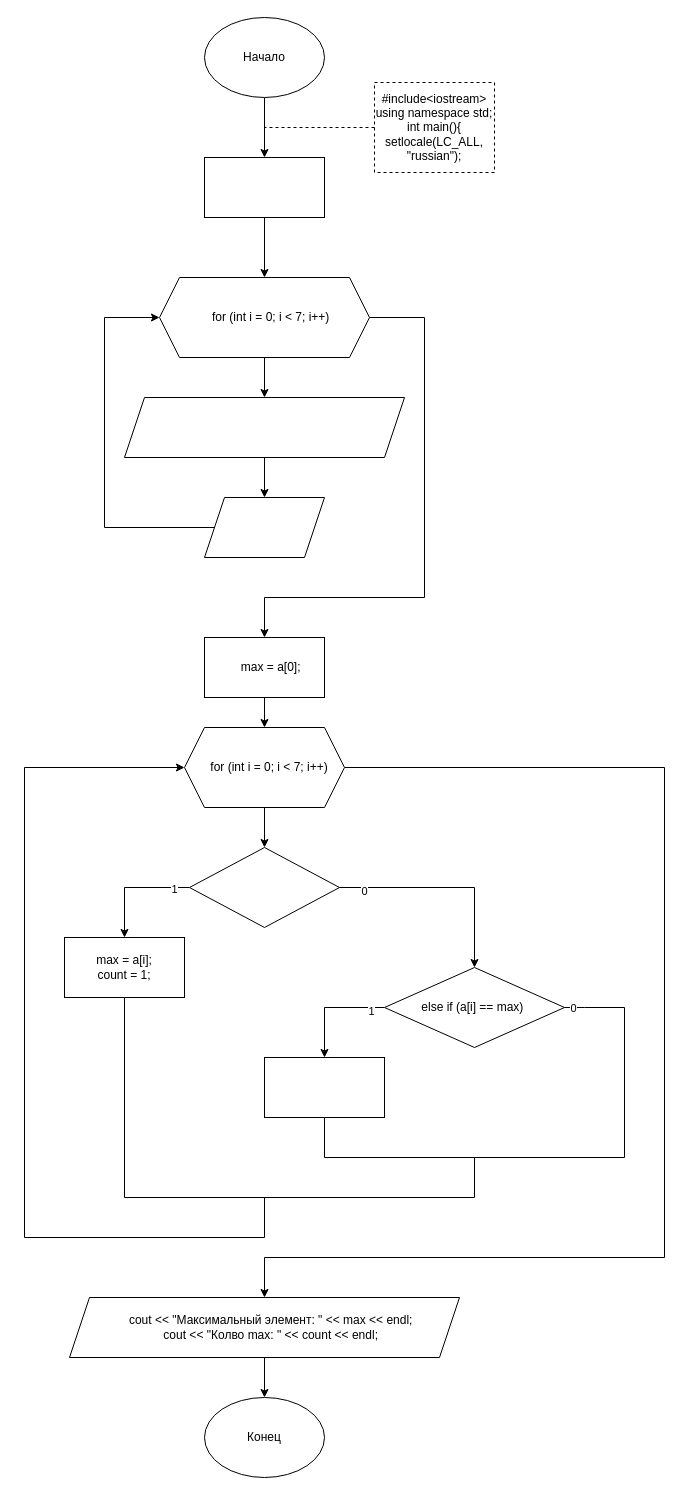
Image size: 690x1495. Some labels were removed from this diagram. The shapes that lost their labels are listed below. From the top down, each one's box as (x1, y1, x2, y2) in pixels, then its label:
(204, 156, 324, 218): int a[7], count = 1, max;
(124, 396, 404, 458): cout << "Введите 7 элементов массива: ";
(204, 496, 324, 558): cin >> a[i];
(188, 846, 340, 928): if (a[i] > max)
(264, 1056, 384, 1118): count++;
